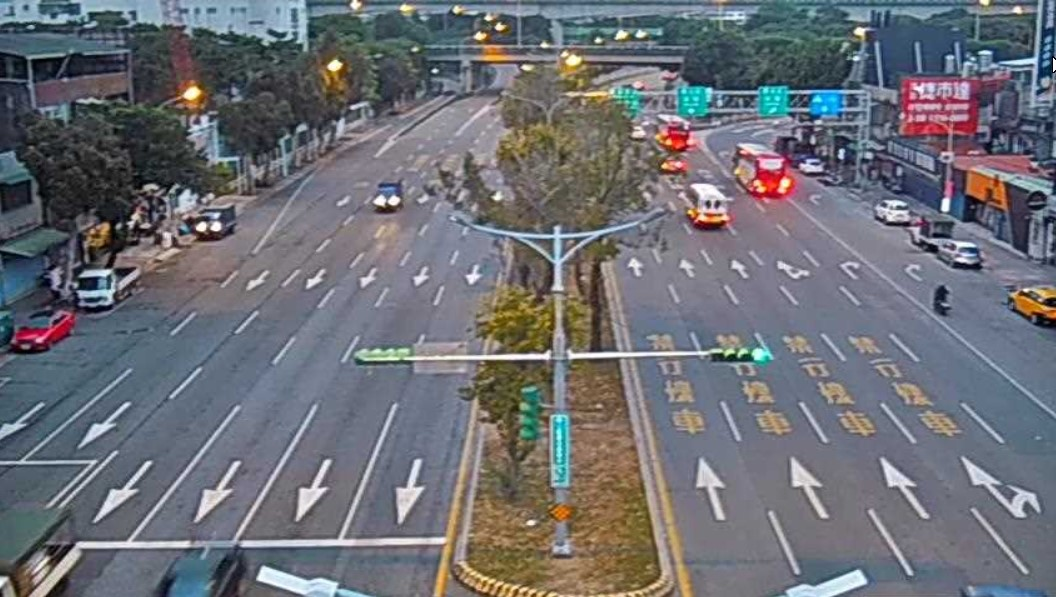Bus: (732, 137, 792, 202), (656, 109, 695, 153)
Business Passenger Car: (1010, 277, 1056, 319)
Private Passenger Car: (12, 304, 78, 355), (682, 182, 735, 233), (939, 237, 987, 273), (369, 173, 410, 215), (871, 192, 912, 228), (798, 157, 826, 177)
